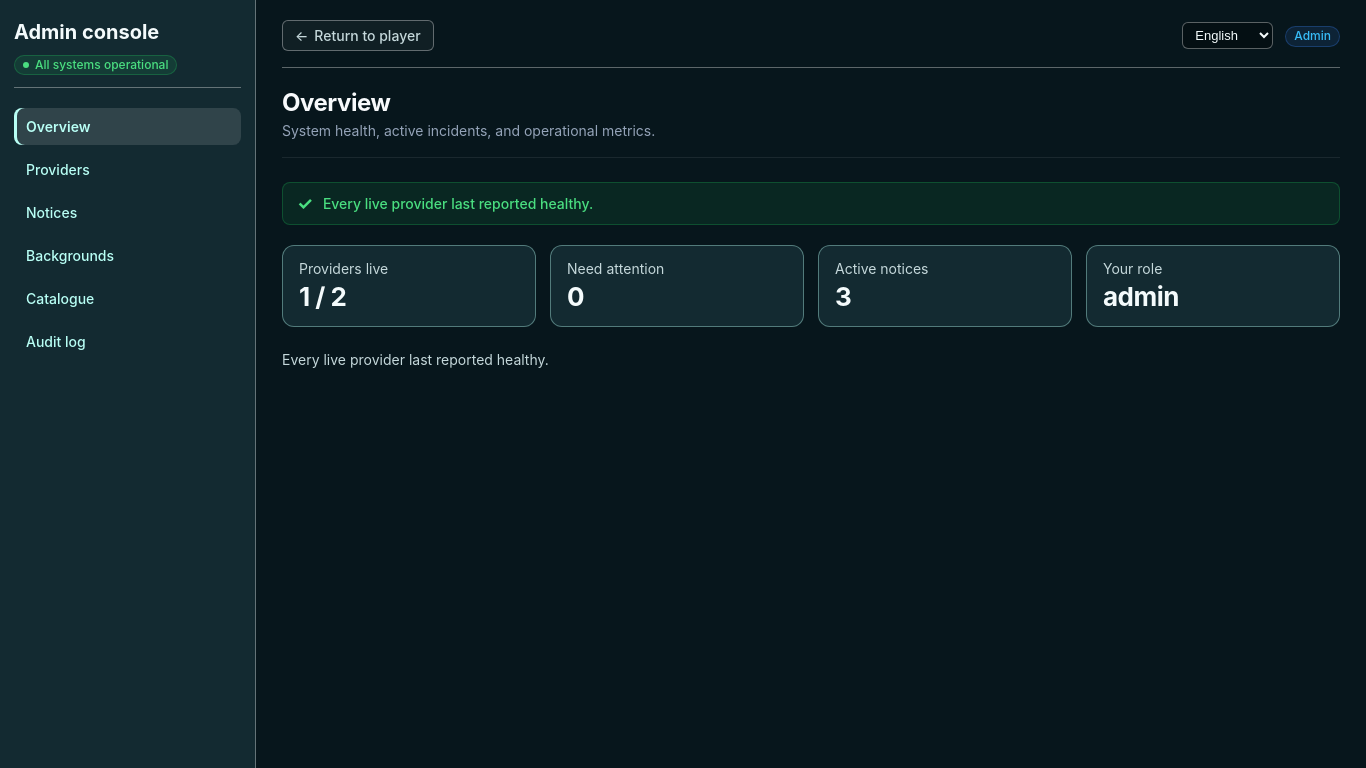
Test: AdminShell › renders the notice list from the repository
Click the link "Notices": (52, 213) left=26, top=204, right=77, bottom=221
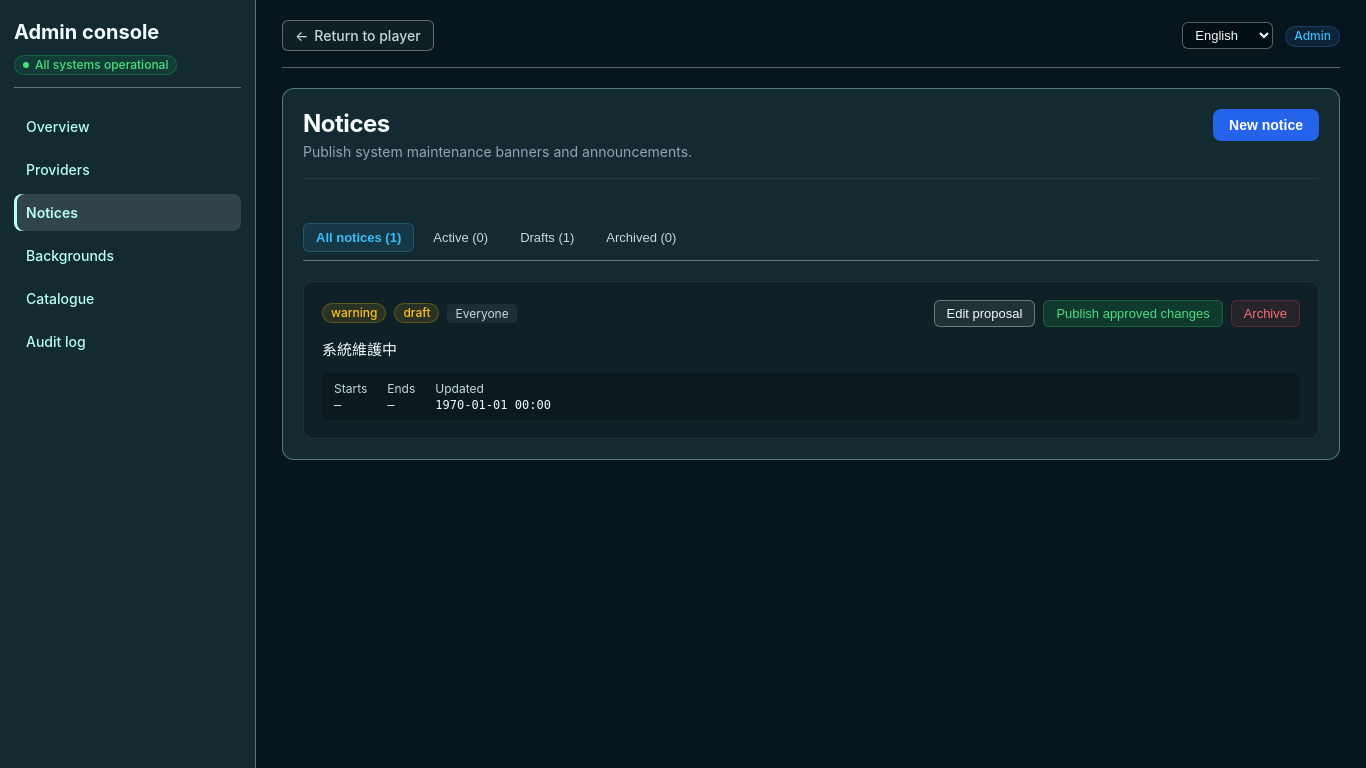
Check: the number of list items is 1, box left=303, top=281, right=1319, bottom=439
Check: the text "系統維護中" is shown, box left=322, top=340, right=397, bottom=359
